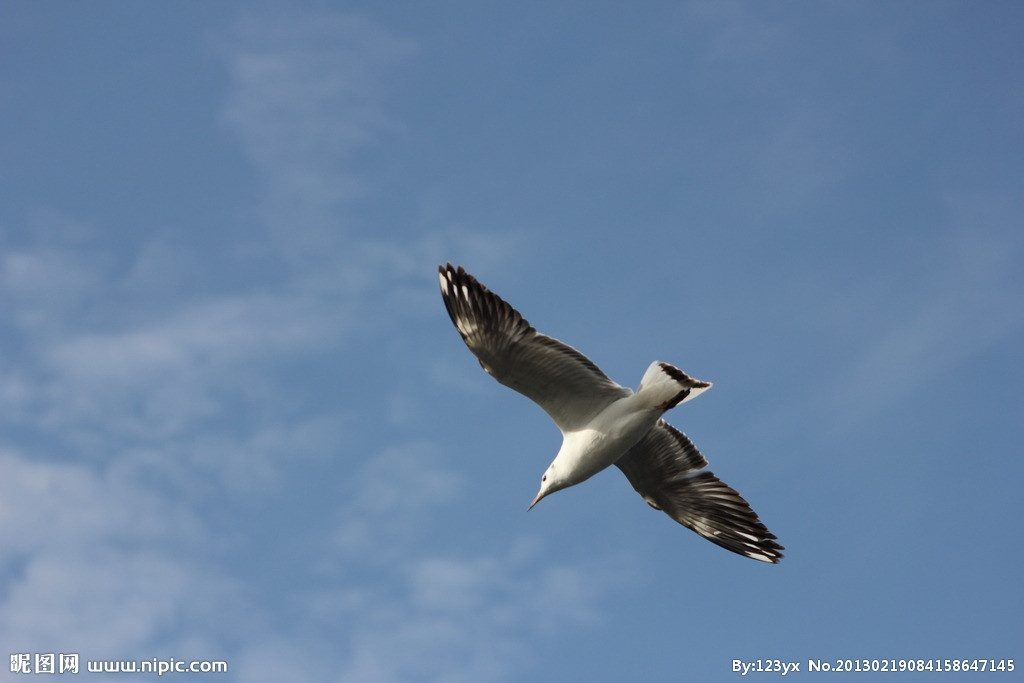bird: (435, 262, 791, 570)
